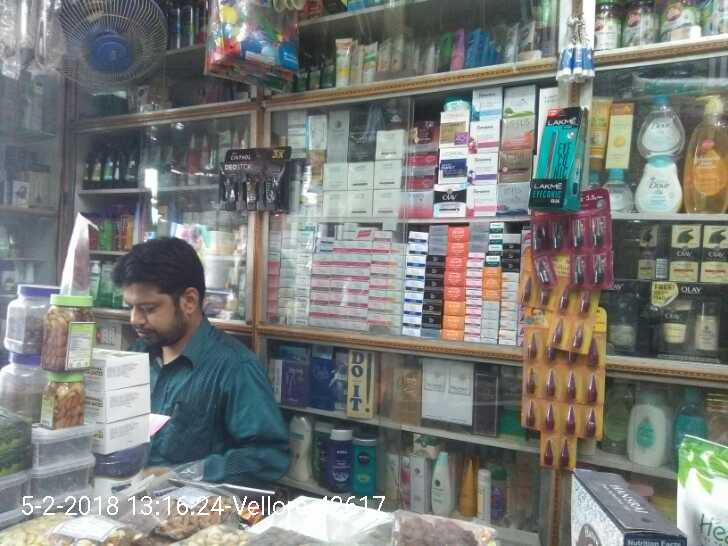olay: (673, 225, 700, 284), (703, 223, 723, 281), (434, 185, 465, 215)
